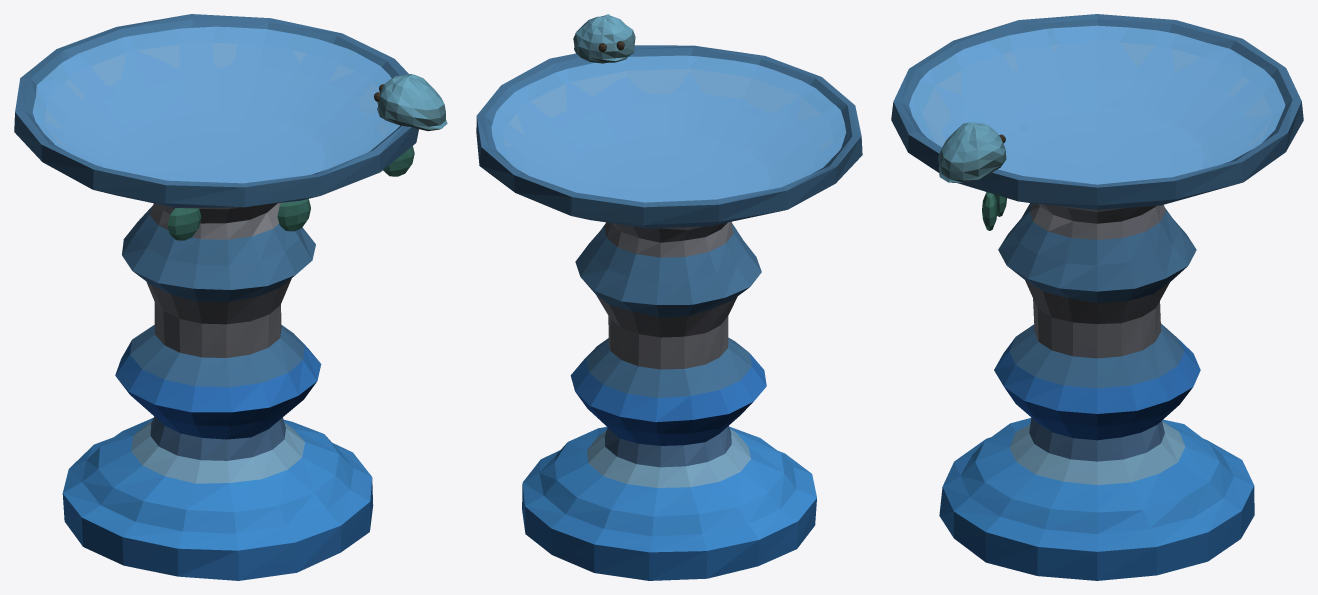
File: Slime_Birdbath_Enchanted.glb
3 views of the same model, side by side, from view 1: azimuth 30°, elevation 25°; view 2: azimuth 150°, elevation 25°; view 3: azimuth 270°, elevation 25° (orthographic). The views are drawn at different scales.
Visible parts, largest first — view 1: Slime_Birdbath_Enchanted_Solid_Merged, Slime_Birdbath_Enchanted_Water; view 2: Slime_Birdbath_Enchanted_Solid_Merged, Slime_Birdbath_Enchanted_Water; view 3: Slime_Birdbath_Enchanted_Solid_Merged, Slime_Birdbath_Enchanted_Water.
Boxes of the visible parts, x1,y1,x2,y2 form: Slime_Birdbath_Enchanted_Solid_Merged: (14, 14, 447, 580); Slime_Birdbath_Enchanted_Water: (32, 26, 399, 183); Slime_Birdbath_Enchanted_Solid_Merged: (476, 14, 862, 580); Slime_Birdbath_Enchanted_Water: (491, 55, 846, 202); Slime_Birdbath_Enchanted_Solid_Merged: (891, 14, 1303, 580); Slime_Birdbath_Enchanted_Water: (909, 25, 1285, 184).
Bounding box in the file's own units: 0.7706 × 0.9419 × 0.7766.
